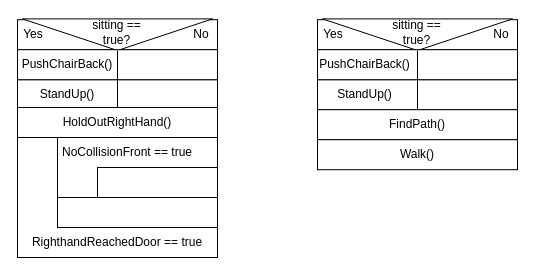
This 535x275 diagram has some shape labels left out. The box of each missing label's shape, as (x1, y1, x2, y2) in pixels:
TurnLeft90Degrees(): (56, 196, 218, 228)
WalkForward(): (96, 166, 218, 198)
